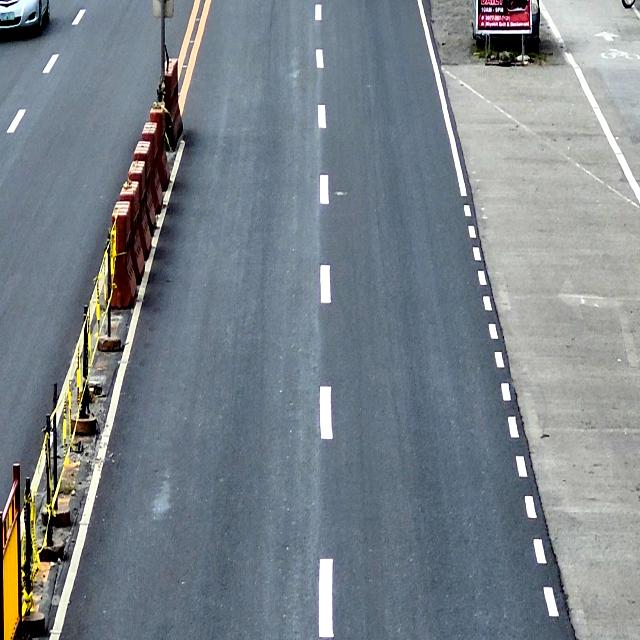Car: (0, 0, 51, 38)
License-Plate: (0, 11, 15, 22)
